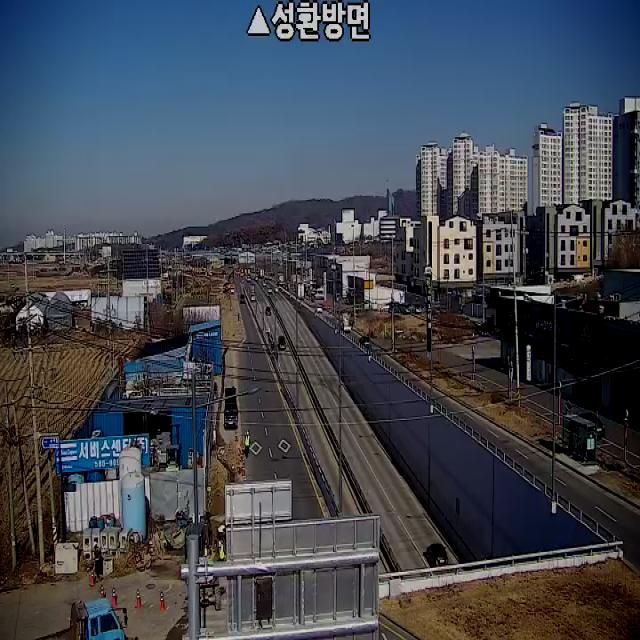Car: (573, 411, 604, 441), (426, 543, 448, 567), (359, 335, 371, 348), (278, 336, 286, 350), (266, 306, 271, 316), (317, 305, 322, 313)
Truck: (170, 494, 228, 622), (34, 597, 128, 640), (223, 388, 237, 428), (342, 319, 351, 333)
